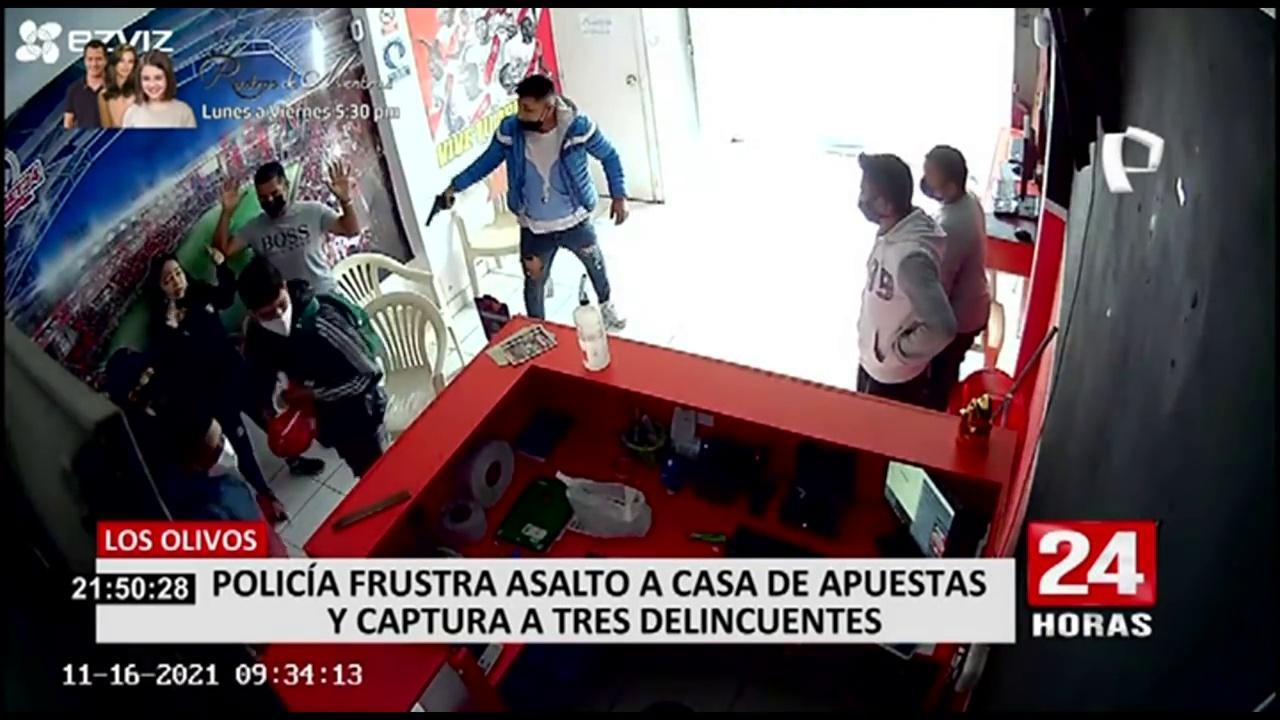Guns perspective: (418, 176, 469, 240)
